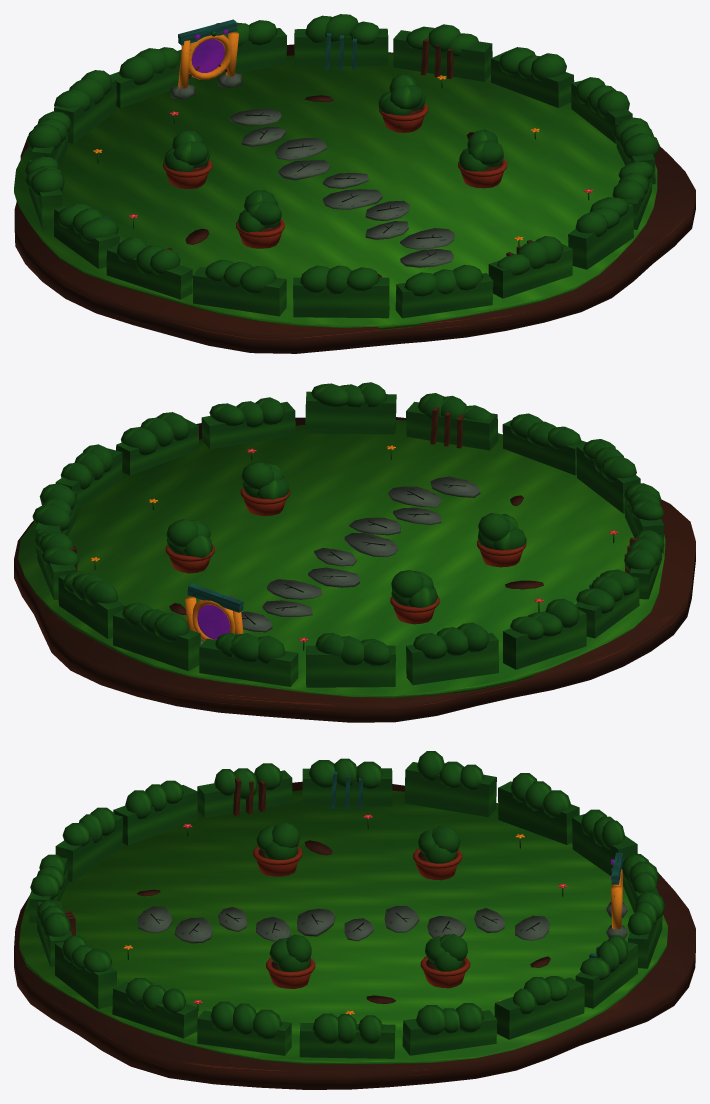
File: garden-arena.glb
The picture shows the model from 3 angles, top to bottom: view 1: azimuth 30°, elevation 25°; view 2: azimuth 150°, elevation 25°; view 3: azimuth 270°, elevation 25°; orthographic projection.
Visible parts, largest first — view 1: Arena_Playfield_Grass, Arena_Island_Soil, Boundary_Hedge_13_ClippedBase, Boundary_Hedge_12_ClippedBase, Boundary_Hedge_03_ClippedBase, Boundary_Hedge_04_ClippedBase, Boundary_Hedge_14_ClippedBase, Boundary_Hedge_11_ClippedBase, Boundary_Hedge_15_ClippedBase, Boundary_Hedge_16_ClippedBase, Boundary_Hedge_02_ClippedBase, Boundary_Hedge_06_ClippedBase (+46 smaller); view 2: Arena_Playfield_Grass, Arena_Island_Soil, Boundary_Hedge_16_ClippedBase, Boundary_Hedge_07_ClippedBase, Boundary_Hedge_08_ClippedBase, Boundary_Hedge_05_ClippedBase, Boundary_Hedge_06_ClippedBase, Boundary_Hedge_09_ClippedBase, Boundary_Hedge_15_ClippedBase, Boundary_Hedge_17_ClippedBase, Boundary_Hedge_18_ClippedBase, Boundary_Hedge_14_ClippedBase (+50 smaller); view 3: Arena_Playfield_Grass, Arena_Island_Soil, Boundary_Hedge_09_ClippedBase, Boundary_Hedge_03_ClippedBase, Boundary_Hedge_08_ClippedBase, Boundary_Hedge_12_ClippedBase, Boundary_Hedge_02_ClippedBase, Boundary_Hedge_17_ClippedBase, Boundary_Hedge_01_ClippedBase, Boundary_Hedge_10_ClippedBase, Boundary_Hedge_18_ClippedBase, Boundary_Hedge_16_ClippedBase (+40 smaller).
Boxes of the visible parts, x1,y1,x2,y2 form: Arena_Playfield_Grass: (14, 53, 657, 329); Arena_Island_Soil: (14, 44, 695, 353); Boundary_Hedge_13_ClippedBase: (293, 277, 389, 318); Boundary_Hedge_12_ClippedBase: (192, 266, 286, 316); Boundary_Hedge_03_ClippedBase: (393, 30, 492, 81); Boundary_Hedge_04_ClippedBase: (294, 28, 388, 66); Boundary_Hedge_14_ClippedBase: (395, 273, 493, 318); Boundary_Hedge_11_ClippedBase: (106, 244, 192, 299); Boundary_Hedge_15_ClippedBase: (488, 243, 572, 298); Boundary_Hedge_16_ClippedBase: (568, 203, 633, 269); Boundary_Hedge_02_ClippedBase: (491, 51, 574, 107); Boundary_Hedge_06_ClippedBase: (110, 50, 194, 108); Arena_Playfield_Grass: (18, 420, 665, 697); Arena_Island_Soil: (14, 417, 695, 722); Boundary_Hedge_16_ClippedBase: (305, 391, 396, 434); Boundary_Hedge_07_ClippedBase: (306, 645, 395, 687); Boundary_Hedge_08_ClippedBase: (406, 633, 498, 685); Boundary_Hedge_05_ClippedBase: (113, 610, 200, 670); Boundary_Hedge_06_ClippedBase: (199, 638, 298, 686); Boundary_Hedge_09_ClippedBase: (503, 609, 586, 669); Boundary_Hedge_15_ClippedBase: (406, 401, 498, 450); Boundary_Hedge_17_ClippedBase: (201, 402, 295, 449); Boundary_Hedge_18_ClippedBase: (116, 419, 198, 475); Boundary_Hedge_14_ClippedBase: (502, 420, 586, 475); Arena_Playfield_Grass: (19, 790, 667, 1064); Arena_Island_Soil: (14, 781, 695, 1089); Boundary_Hedge_09_ClippedBase: (404, 762, 496, 817); Boundary_Hedge_03_ClippedBase: (494, 977, 584, 1039); Boundary_Hedge_08_ClippedBase: (498, 781, 579, 844); Boundary_Hedge_12_ClippedBase: (113, 785, 197, 845); Boundary_Hedge_02_ClippedBase: (402, 1010, 497, 1055); Boundary_Hedge_17_ClippedBase: (112, 981, 198, 1038); Boundary_Hedge_01_ClippedBase: (299, 1023, 395, 1058); Boundary_Hedge_10_ClippedBase: (302, 768, 392, 806); Boundary_Hedge_18_ClippedBase: (197, 1010, 291, 1055); Boundary_Hedge_16_ClippedBase: (55, 942, 116, 1009).
Size of the model in its own units: 26.41 by 3.7 by 26.45.
12 materials, 12 textured.
